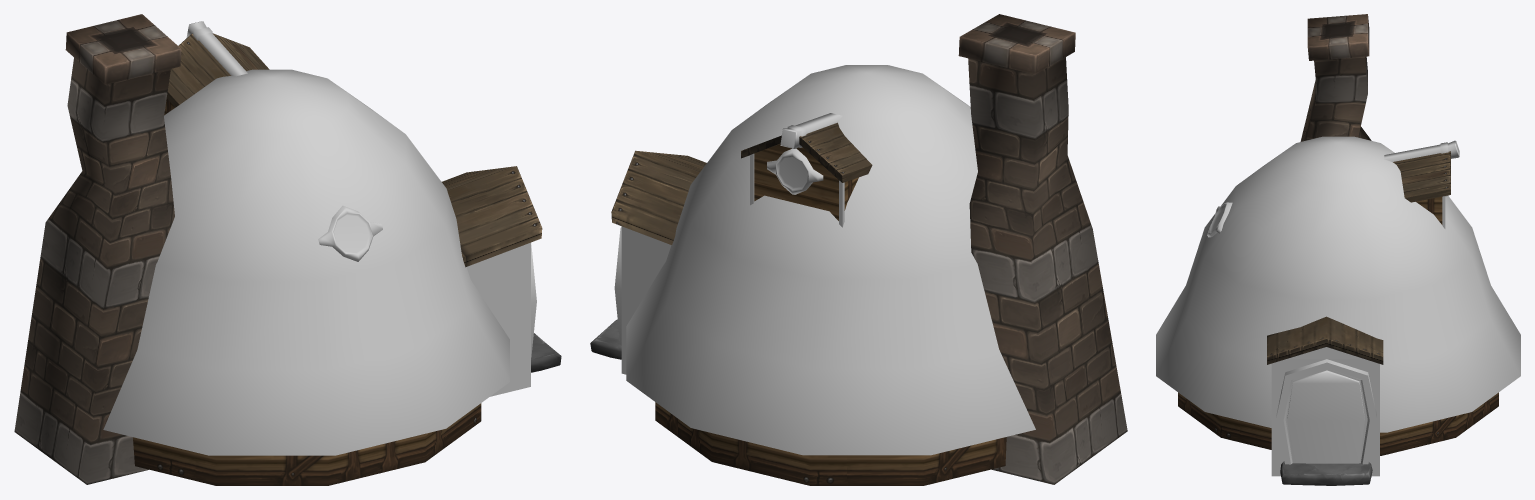
File: DomeHouse.fbx
3 renders of one model, left to right at view 1: azimuth 30°, elevation 25°; view 2: azimuth 150°, elevation 25°; view 3: azimuth 270°, elevation 25°, orthographic. The views are drawn at different scales.
Parts seen in each view (by area): view 1: M_DomeStructure1, ChimneyCrooked1, Porch, WindowBox4, RoundWindow, Slab7; view 2: M_DomeStructure1, ChimneyCrooked1, Porch, WindowBox4, Slab7, DoorFrame1; view 3: M_DomeStructure1, ChimneyCrooked1, Porch, Door1, WindowBox4, DoorFrame1, Slab7, RoundWindow.
Boxes of the visible parts, x1,y1,x2,y2 form: M_DomeStructure1: (103,69,509,485); ChimneyCrooked1: (14,14,181,484); Porch: (442,166,542,396); WindowBox4: (164,21,269,114); RoundWindow: (318,205,382,261); Slab7: (531,333,561,372); M_DomeStructure1: (626,65,1035,485); ChimneyCrooked1: (958,14,1127,484); Porch: (611,150,706,374); WindowBox4: (741,113,872,227); Slab7: (590,319,621,359); DoorFrame1: (614,227,621,345); M_DomeStructure1: (1156,136,1520,455); ChimneyCrooked1: (1300,14,1371,141); Porch: (1267,316,1383,476); Door1: (1287,370,1364,463); WindowBox4: (1384,140,1459,228); DoorFrame1: (1276,359,1376,464); Slab7: (1280,461,1372,485); RoundWindow: (1207,202,1232,237).
Bounding box in the file's own units: 13.1 × 10.65 × 11.29.
